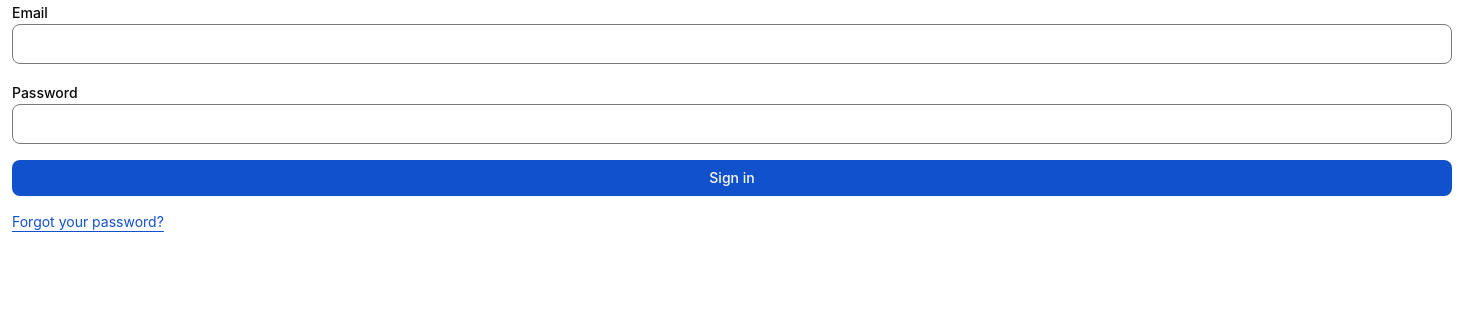
Test case: SignInForm › keeps the typed email after a failure and re-enables the button
Type "a@example.com" into the field labelled "Email" at [732, 44], box 12,24 -> 1452,64
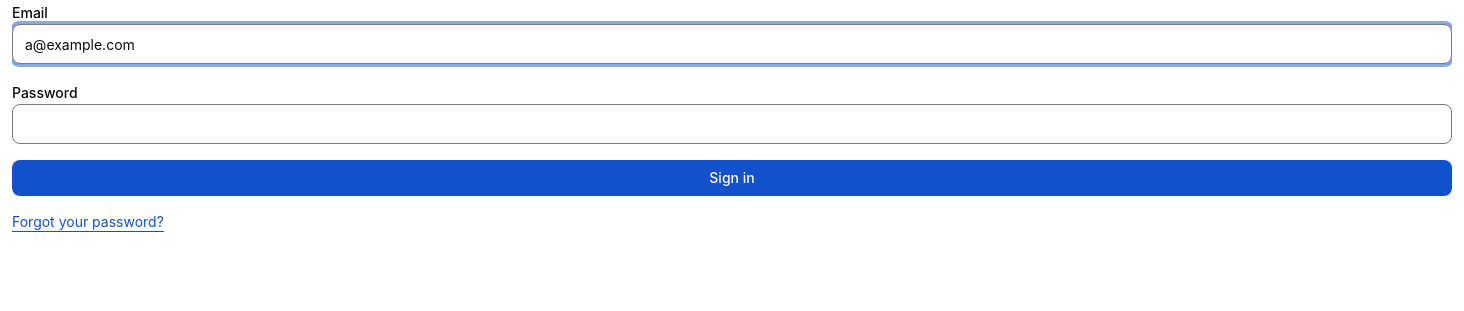
Type "x" into the password field labelled "Password" at [732, 124], box 12,104 -> 1452,144
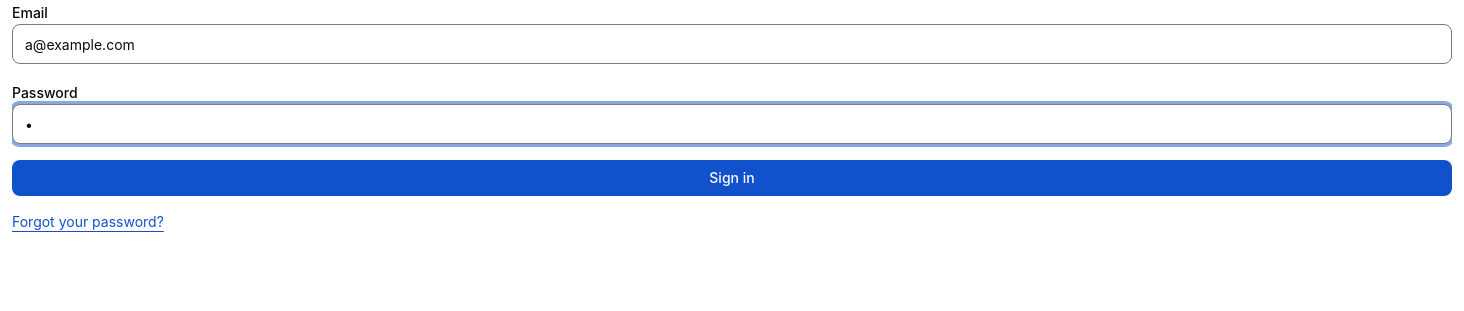
Click the button "Sign in" at [732, 178], box 12,160 -> 1452,196
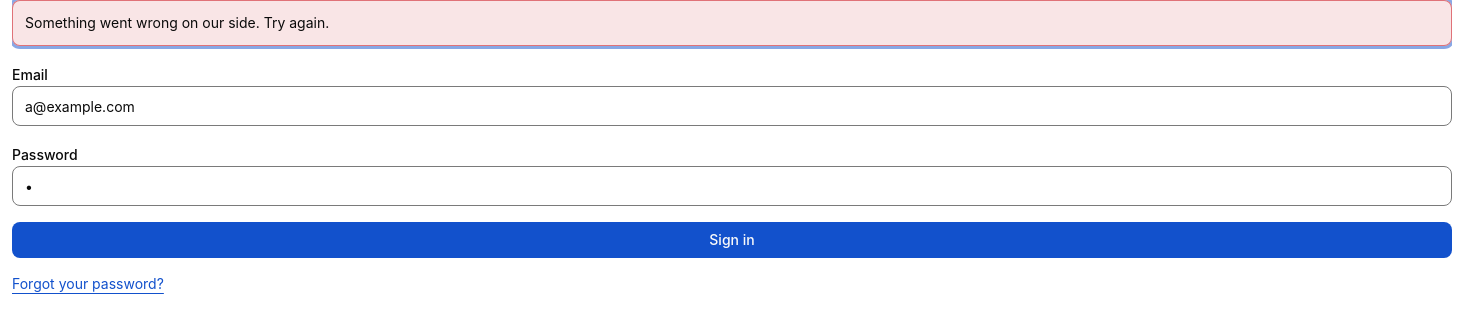
Expected: the button "Sign in" is enabled, 12,222 -> 1452,258
Now the message "Something went wrong on our side. Try again." is shown, box 12,0 -> 1452,46
